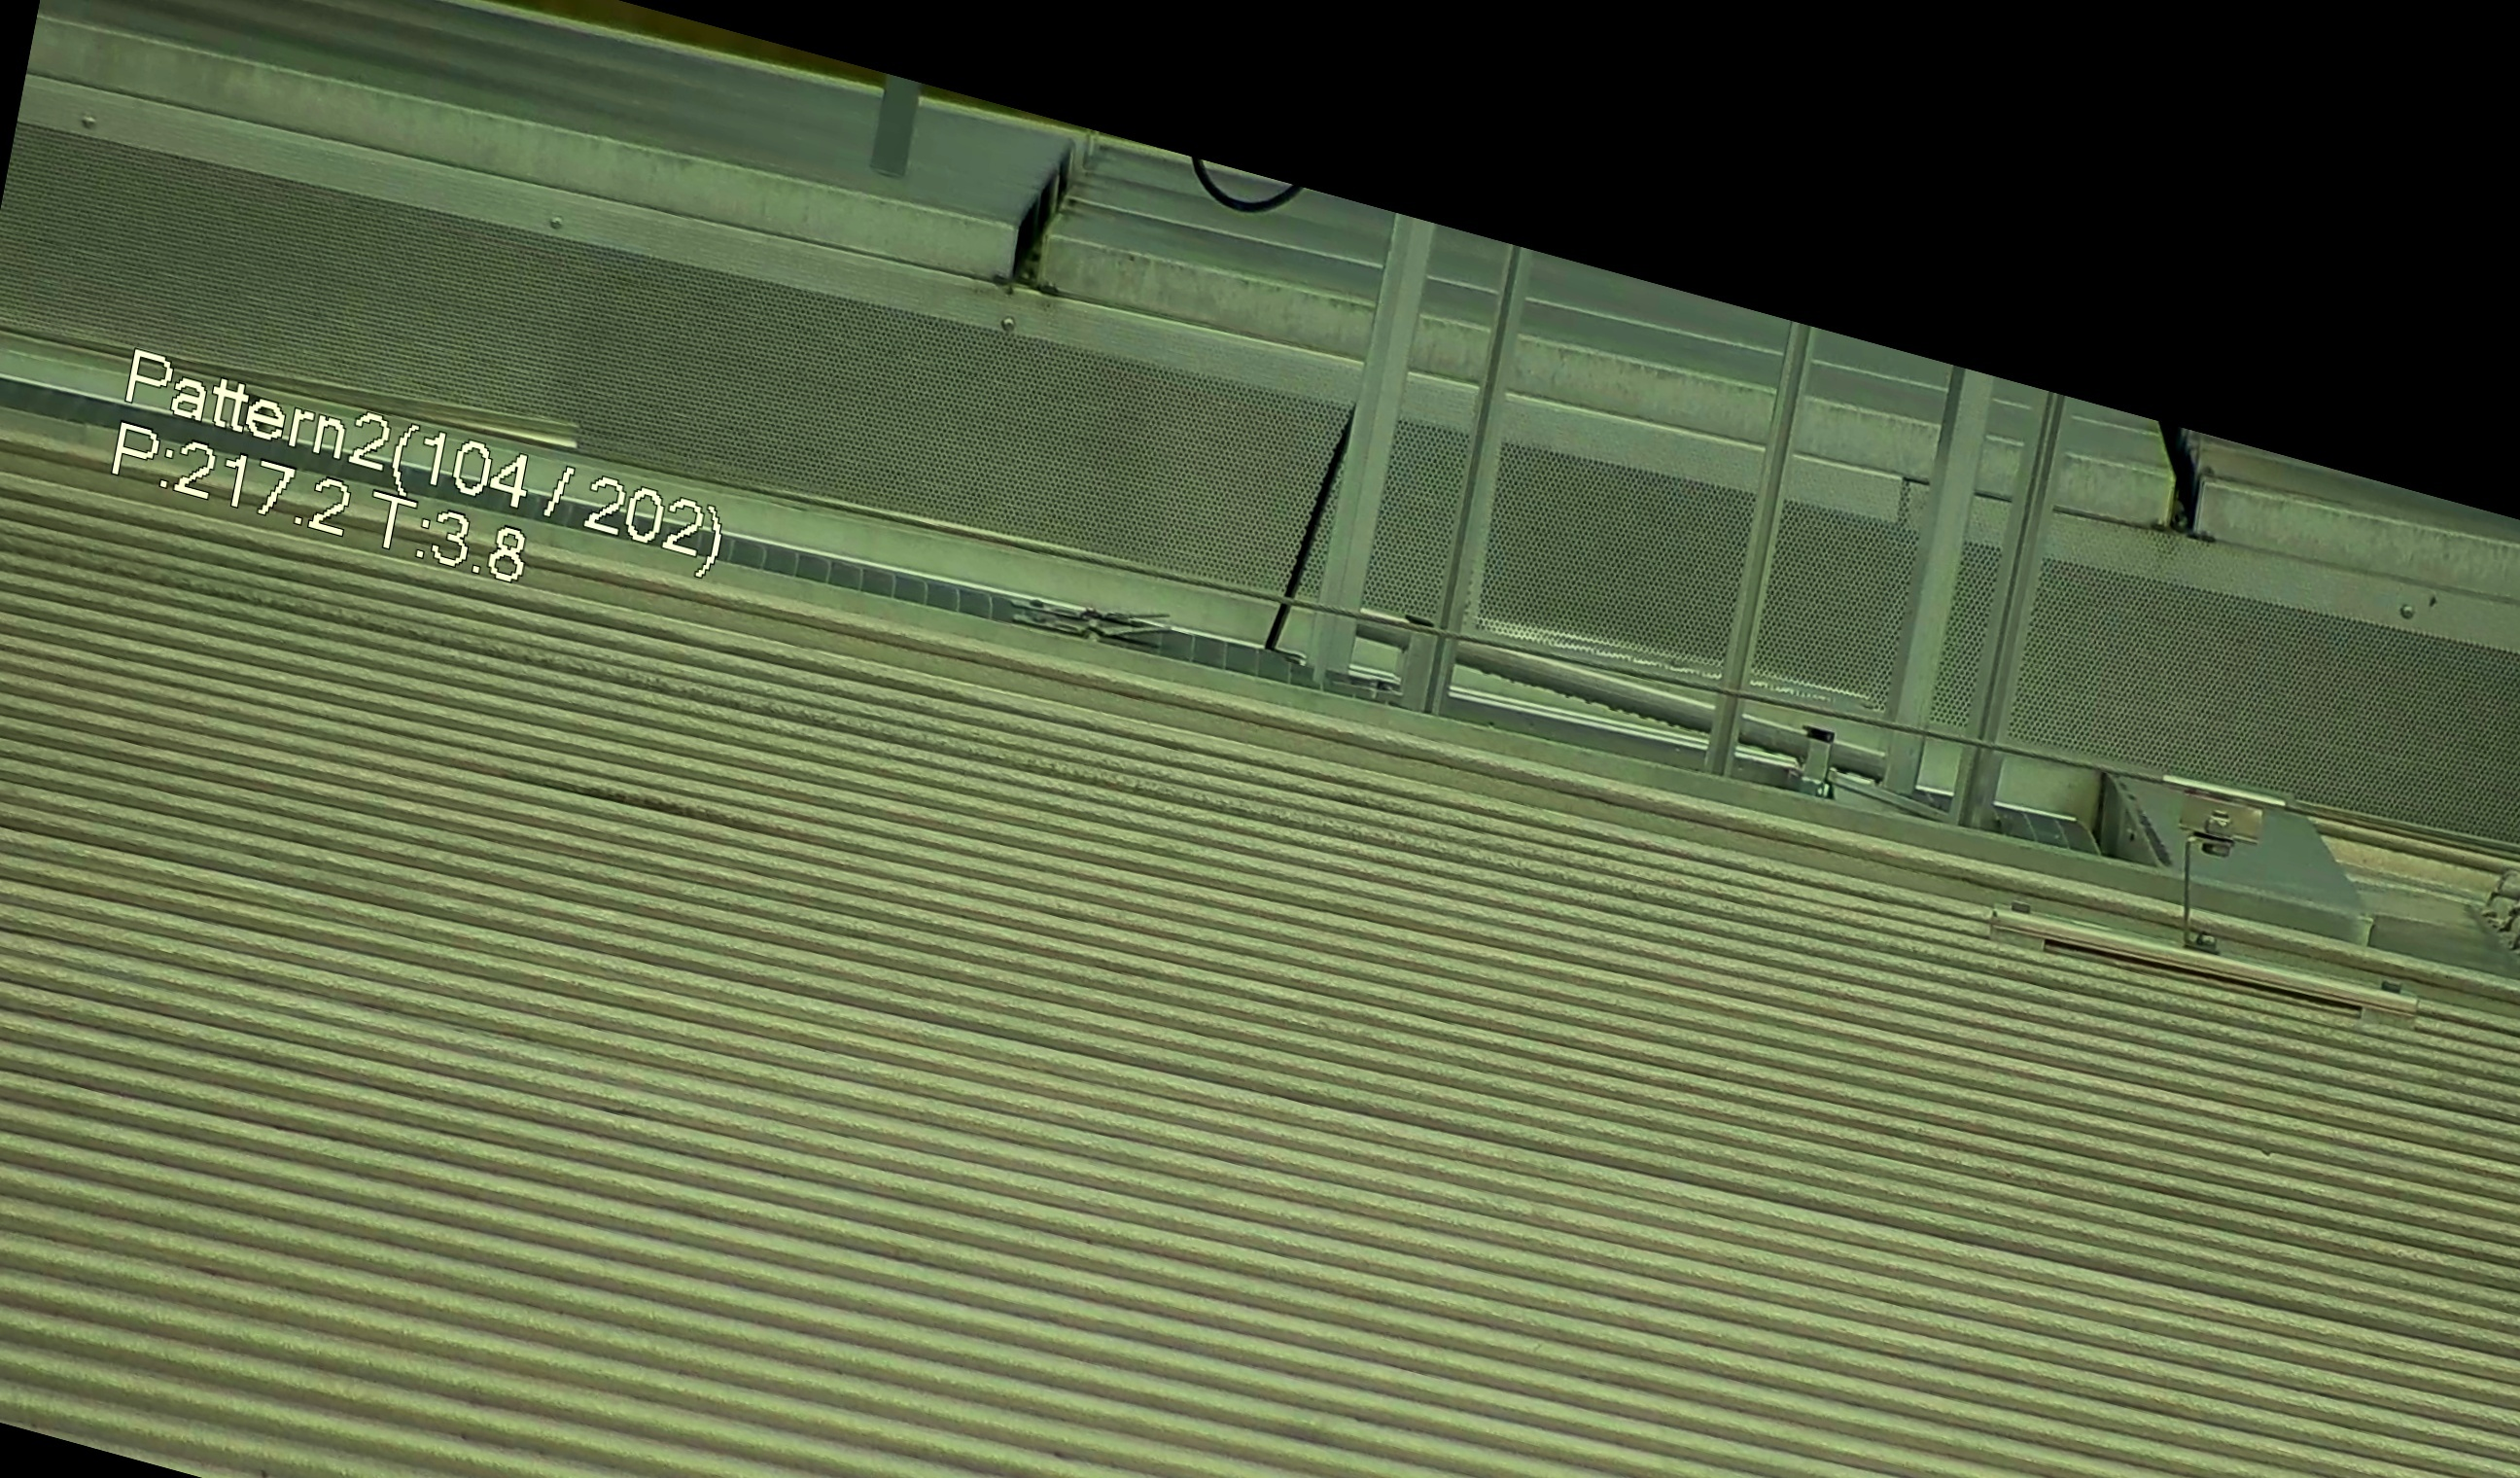Other: (2114, 347, 2267, 554)
